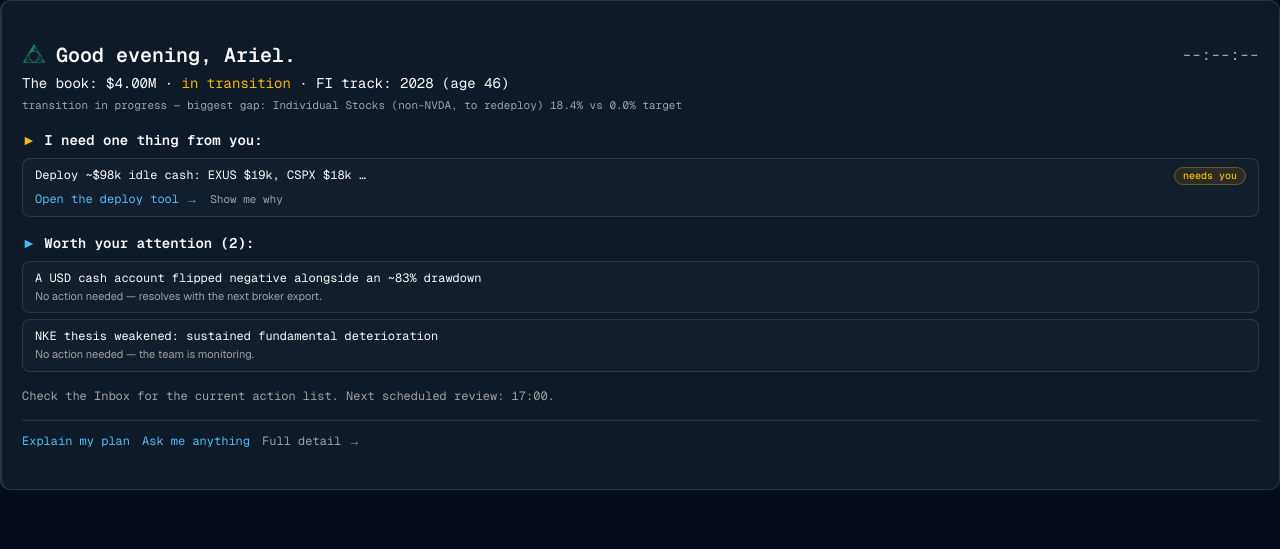
FMGreetingCard › renders the book line, needs-you item and CTA, and expands why
Expected: the element with test id "book-line" is shown, [22,74,509,92]
Expected: the element with test id "book-line" shows "$4.00M", [106,74,156,92]
Click the button with test id "why-toggle-proposal:47" at point(246, 199), box [210,191,283,208]
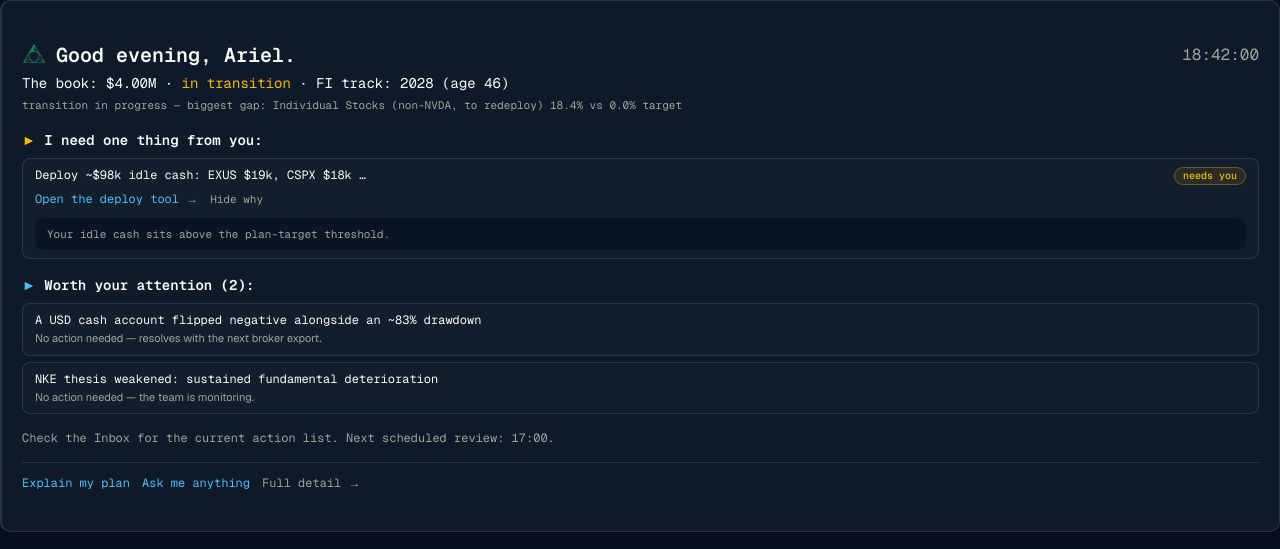
Expected: the text with test id "why-proposal:47" shows "idle cash sits above the plan-target threshold", [47,226,390,240]
